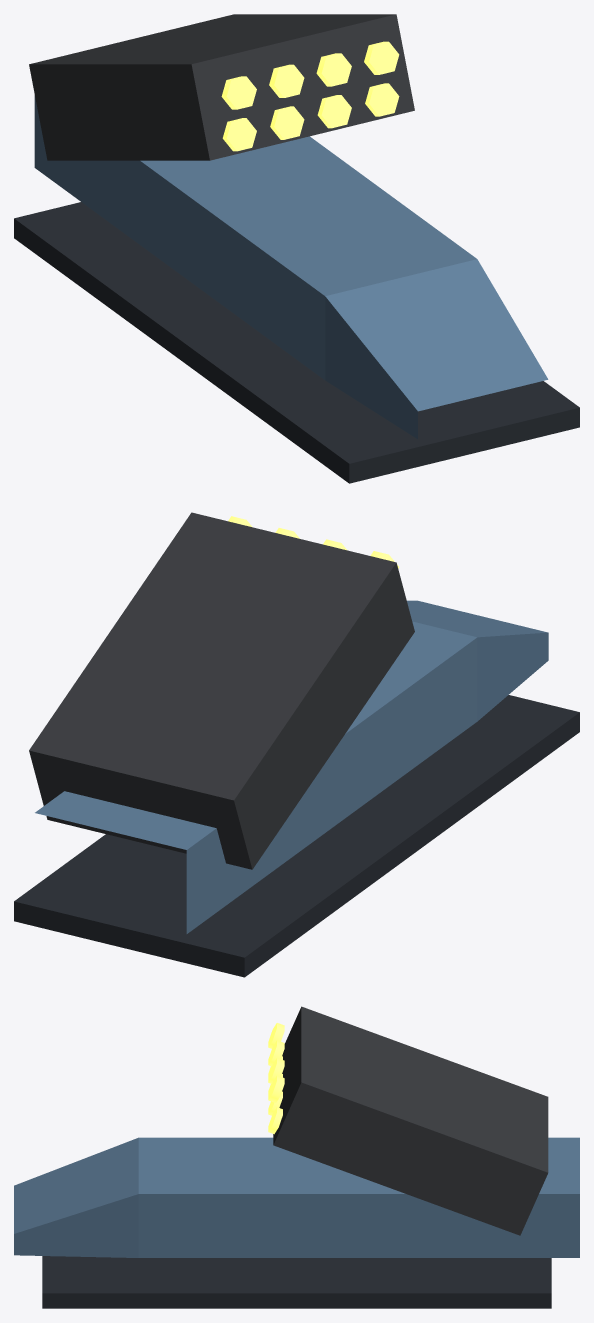
Rendered from veh_ground_rocket_launcher_a10_lod1.glb.
The picture shows the model from 3 angles, top to bottom: view 1: azimuth 30°, elevation 25°; view 2: azimuth 150°, elevation 25°; view 3: azimuth 270°, elevation 25°; orthographic projection. The views are drawn at different scales.
Parts seen in each view (by area): view 1: body, launcher; view 2: launcher, body; view 3: body, launcher.
Boxes of the visible parts, x1,y1,x2,y2 form: body: (14,95,579,483); launcher: (29,14,414,160); launcher: (29,512,414,869); body: (14,600,579,977); body: (14,1137,579,1308); launcher: (268,1006,548,1235).
Size of the model in its own units: 2.43 by 2.97 by 6.8.
